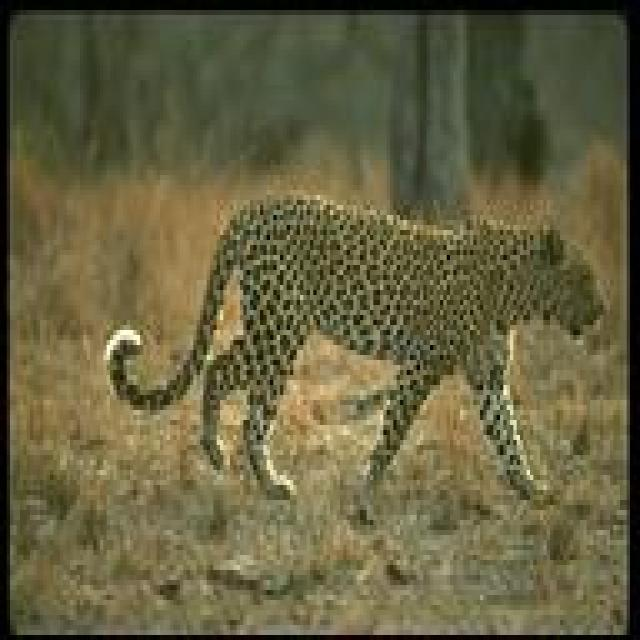Leopard: (106, 194, 607, 517)
